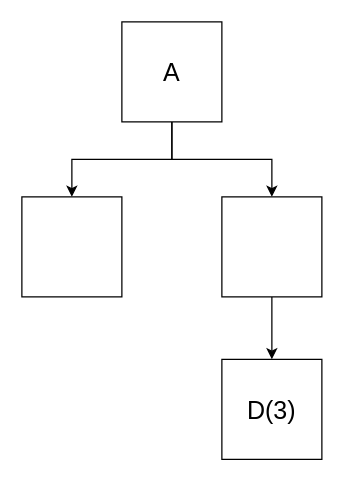
The diagram is 344 pixels wide and 481 high, and some of its shapes have lost their labels. The box of each missing label's shape, as (x1, y1, x2, y2) in pixels:
B(2): (21, 196, 122, 297)
C(4): (221, 196, 322, 297)
